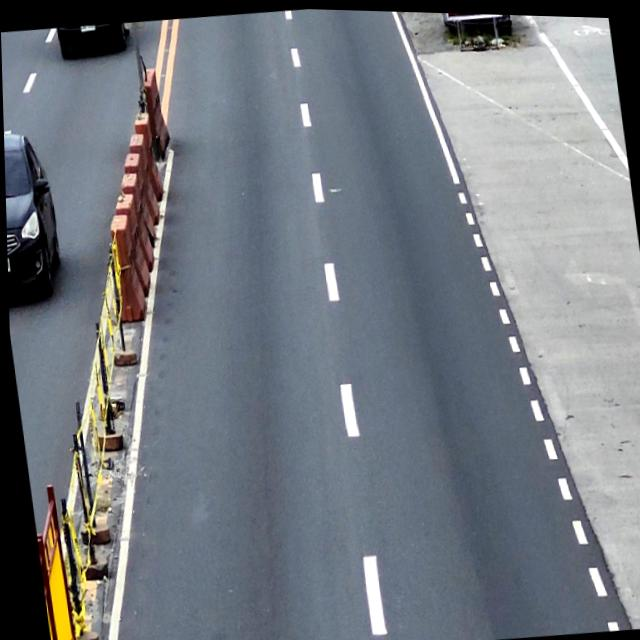Car: (3, 127, 65, 303)
License-Plate: (6, 257, 8, 272)
